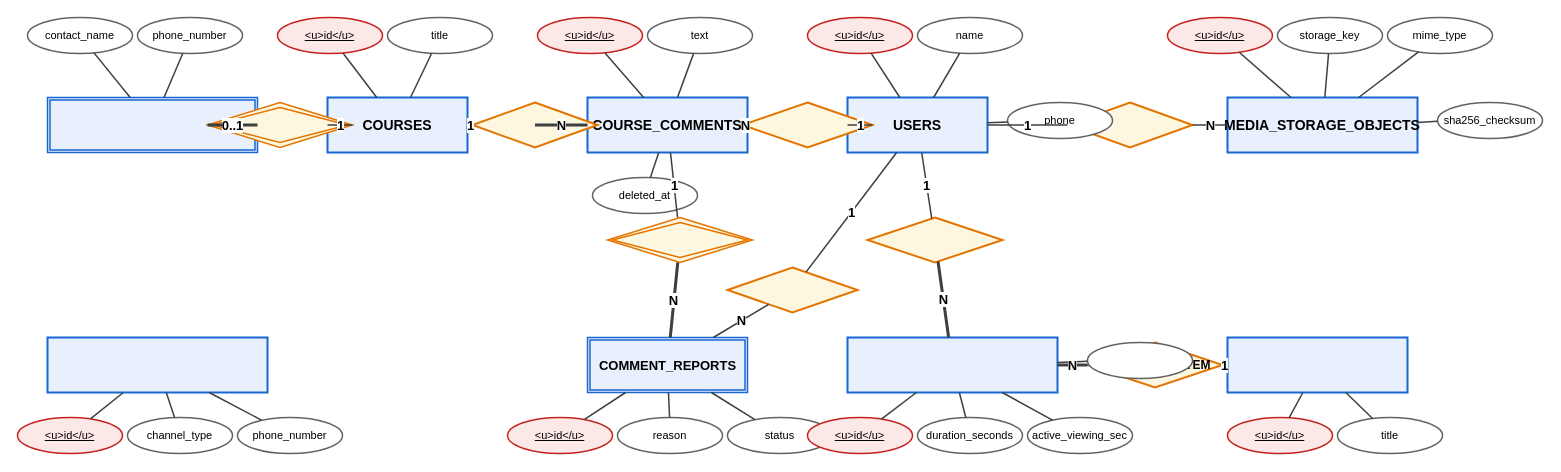
This 1561x472 diagram has some shape labels left out. The centre of each missing label's shape, as x and y in pixels:
AUTHORS_COMMENT: (x=807, y=124)
COURSE_CHAPTER_ITEMS: (x=1317, y=364)
COURSE_WHATSAPP_OVERRIDES: (x=152, y=124)
device_type: (x=1139, y=360)
EMITS_TELEMETRY: (x=934, y=239)
HOSTS_COMMENT: (x=534, y=124)
LEARNING_SESSION_EVENTS: (x=952, y=364)
MODERATES_REPORT: (x=679, y=239)
OVERRIDES_CONTACT: (x=279, y=124)
PLATFORM_SUPPORT_CONTACTS: (x=157, y=364)
SUBMITS_REPORT: (x=792, y=289)
UPLOADS_MEDIA: (x=1129, y=124)
